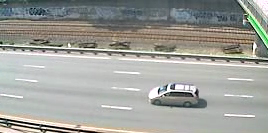car: (146, 80, 204, 109)
